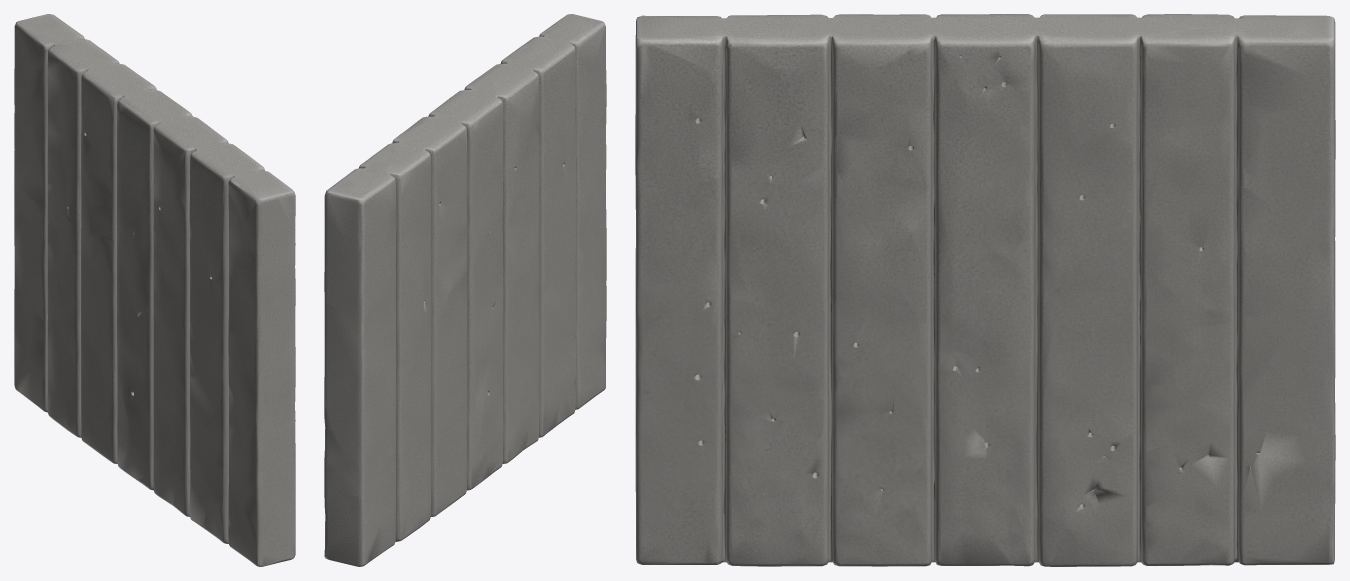
Rendered from pnl_flute.glb.
The picture shows the model from 3 angles, left to right: view 1: azimuth 30°, elevation 25°; view 2: azimuth 150°, elevation 25°; view 3: azimuth 270°, elevation 25°; orthographic projection. The views are drawn at different scales.
Visible parts, largest first — view 1: tripo_node_c2f444a6-4292-4854-b261-eb6ce3268616; view 2: tripo_node_c2f444a6-4292-4854-b261-eb6ce3268616; view 3: tripo_node_c2f444a6-4292-4854-b261-eb6ce3268616.
Boxes of the visible parts, <box> form: tripo_node_c2f444a6-4292-4854-b261-eb6ce3268616: <box>14,14,295,566</box>; tripo_node_c2f444a6-4292-4854-b261-eb6ce3268616: <box>324,14,606,566</box>; tripo_node_c2f444a6-4292-4854-b261-eb6ce3268616: <box>635,14,1335,566</box>.
Size of the model in its own units: 0.1677 by 1.2 by 1.44.
1 material, 1 textured.
